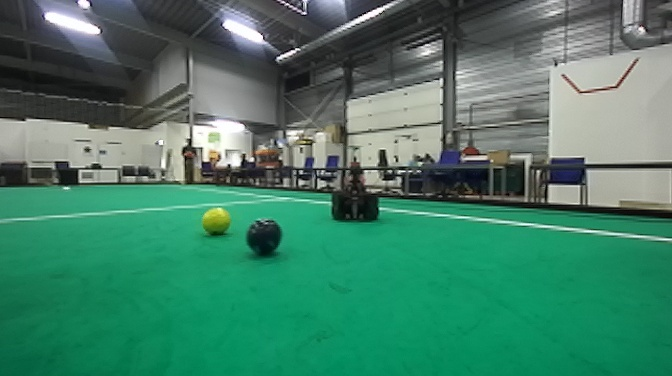ball: (244, 214, 285, 256), (198, 204, 235, 238)
robot: (329, 142, 384, 224)
